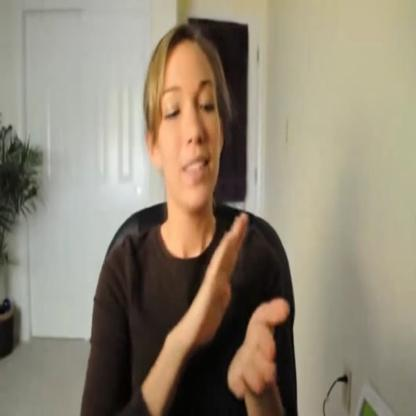NiceToMeetYou: (152, 202, 296, 416)
